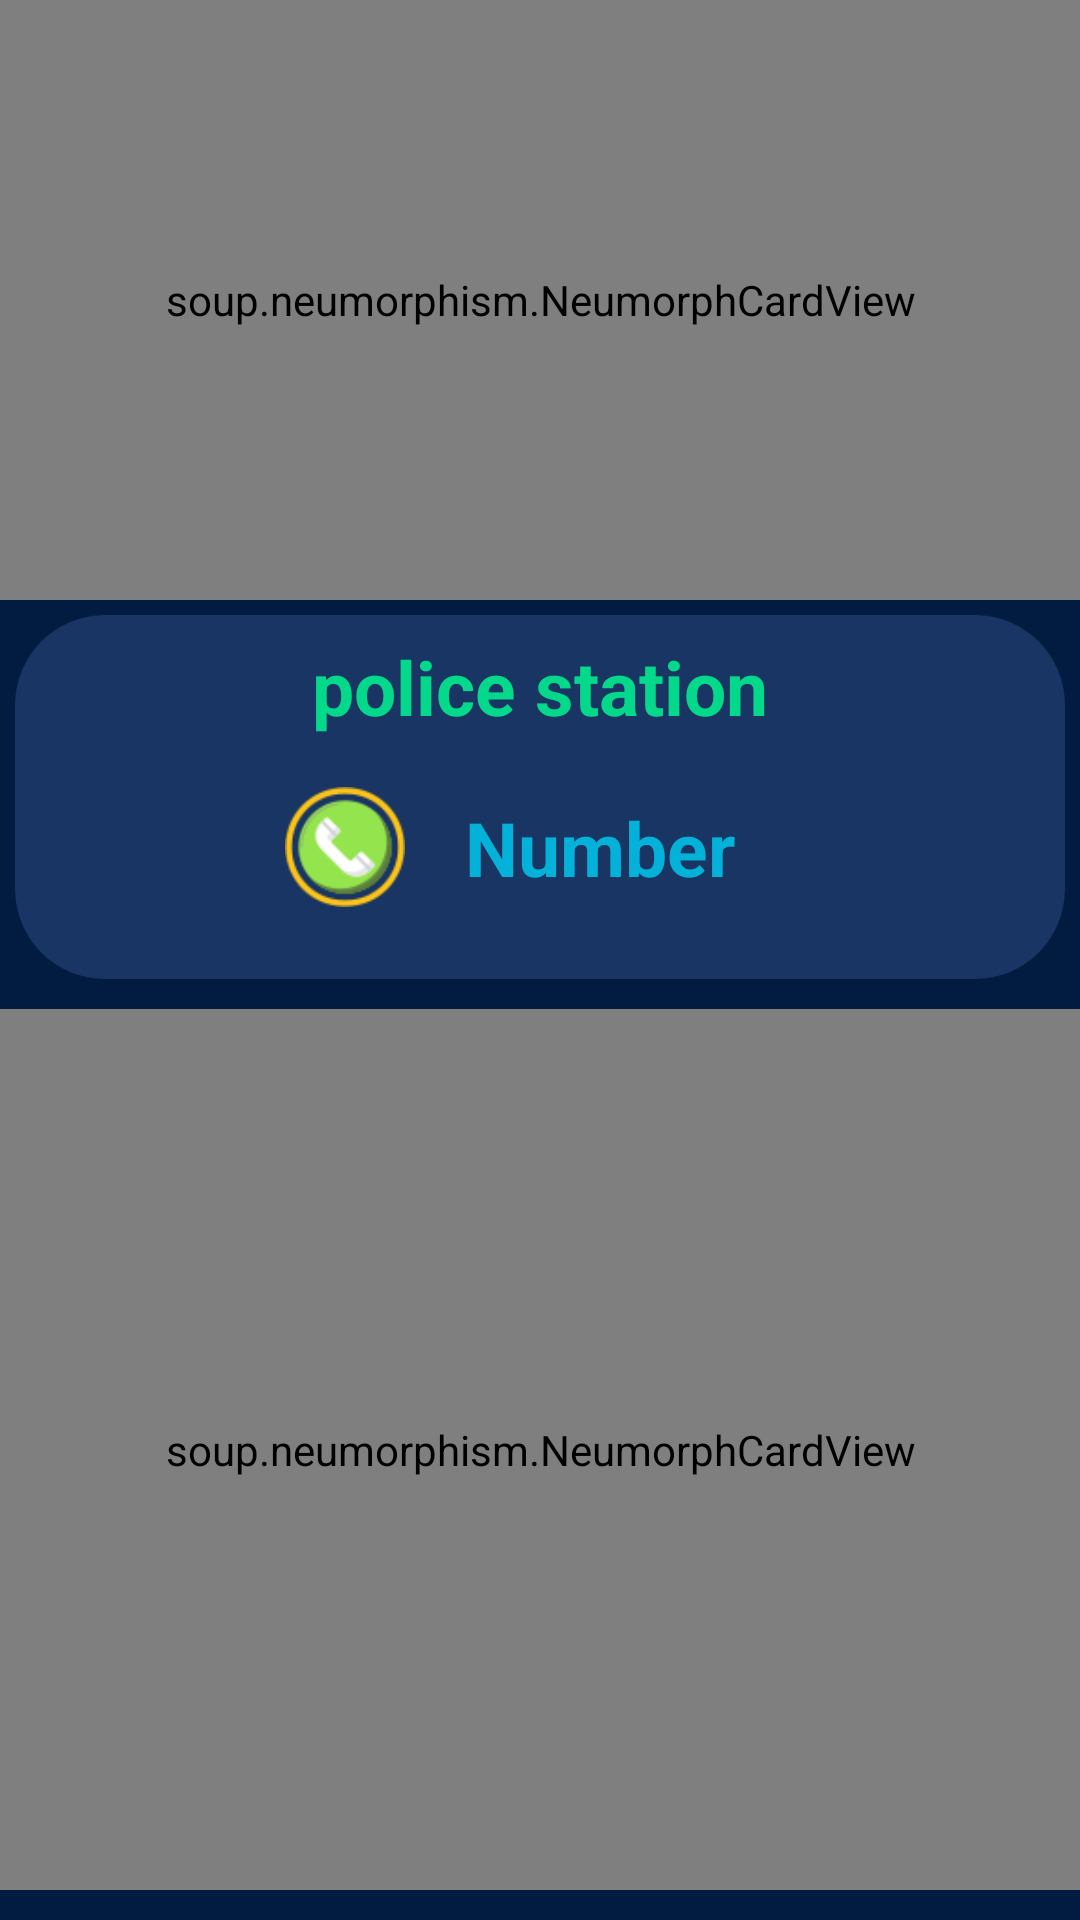

Named icons in this screenshot (1080x1920) and their centers, [x,y]:
call: [345,847]
